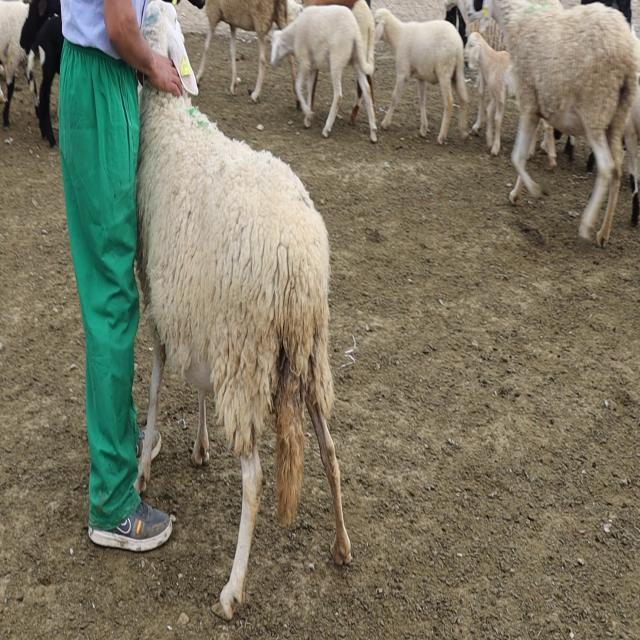Score_5: (134, 80, 351, 619)
